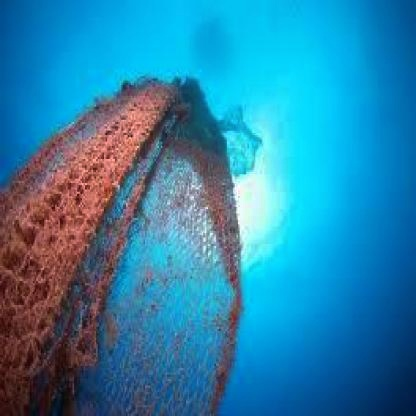net: (2, 85, 244, 416)
